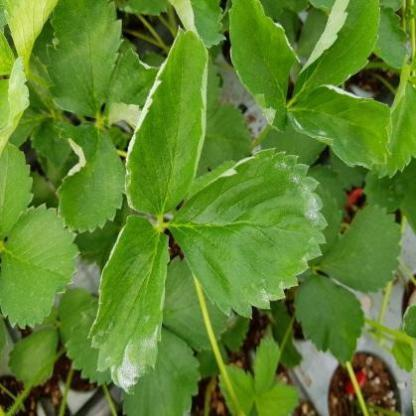Strawberry_Powdery_Mildew_Leaf: (166, 145, 330, 320), (123, 25, 210, 219), (87, 214, 170, 395), (226, 0, 297, 134), (291, 0, 381, 104), (288, 84, 394, 170), (53, 119, 126, 235), (103, 48, 161, 133)
